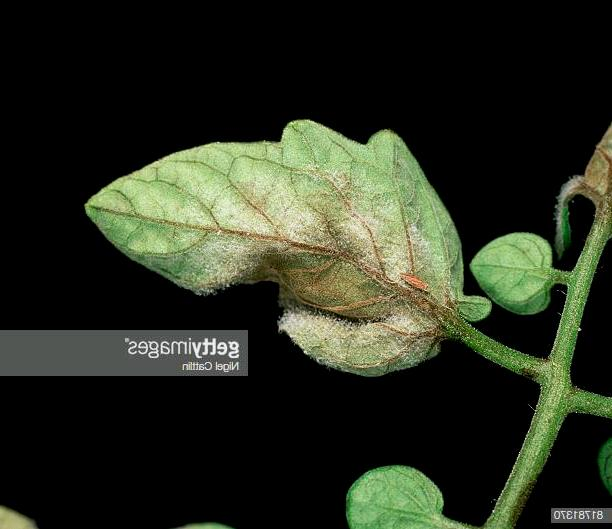Tomato leaf late blight: (79, 118, 477, 385)
